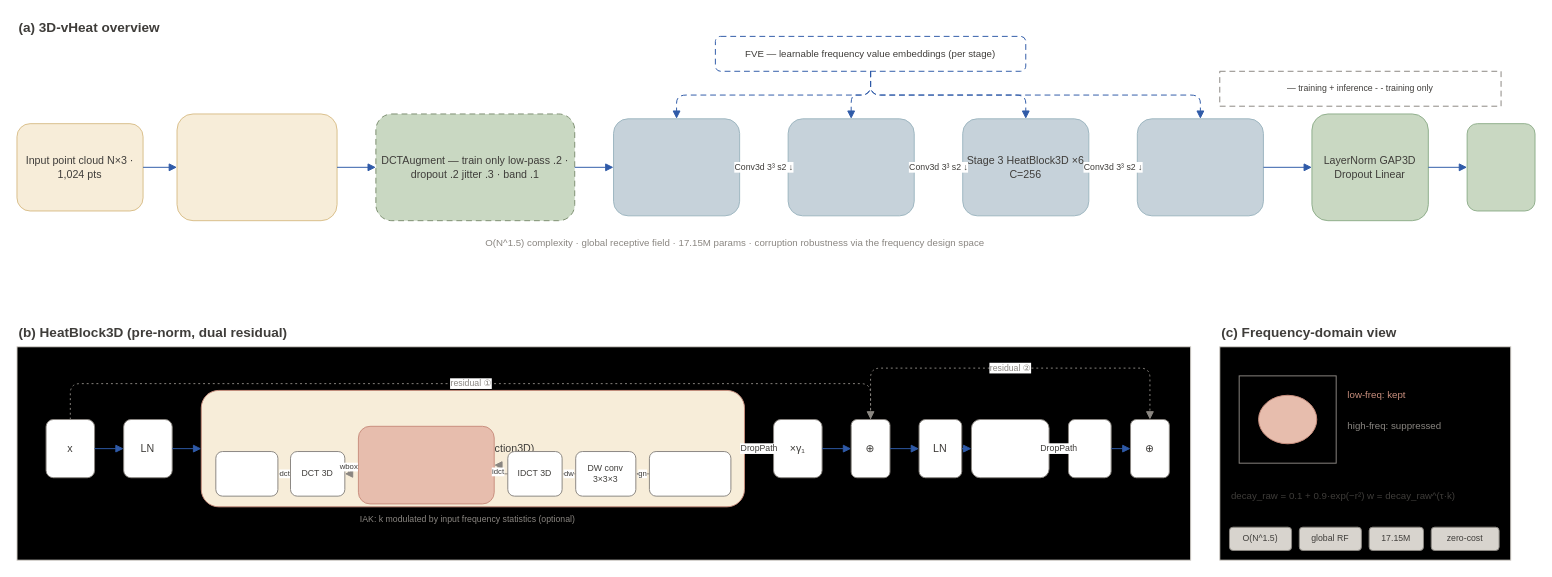
This 1552x577 diagram has some shape labels left out. Each missing label, with the centre of its shape:
1×1×1 proj: [246,473]
40 classes: [1500,167]
GN·GELU ×s: [689,473]
MLP3D r=4 · GELU: [1009,448]
Stage 1 HeatBlock3D ×2 C=64: [676,167]
Stage 2 HeatBlock3D ×2 C=128: [850,167]
Stage 4 HeatBlock3D ×2 C=512: [1199,167]
Voxel Embedding Gaussian field (σ) 32³ sparse grid + mask M: [256,167]
w = decay^(τ·k) 0.1+0.9·e^(−r²) τ learnable k ← FVE / IAK: [425,464]
×γ₂: [1089,448]
